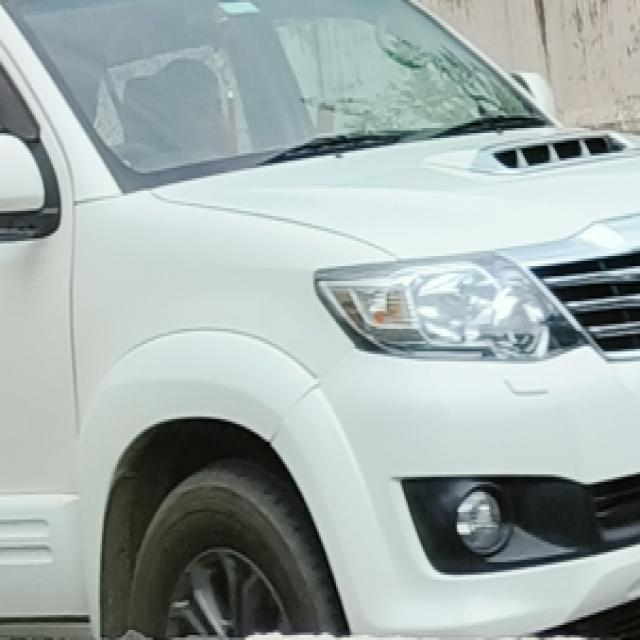scratch: (499, 378, 556, 405)
